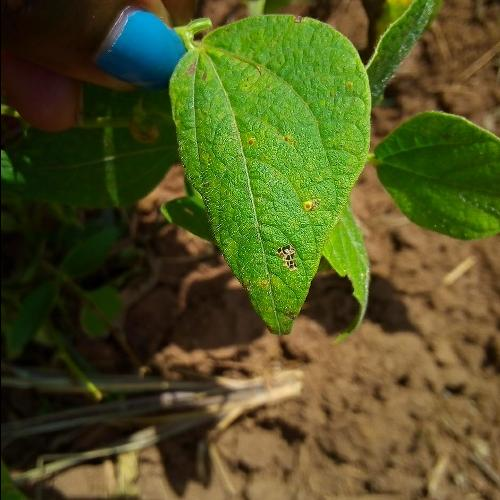hawar: (201, 104, 323, 217)
mozaik: (273, 225, 302, 283)
